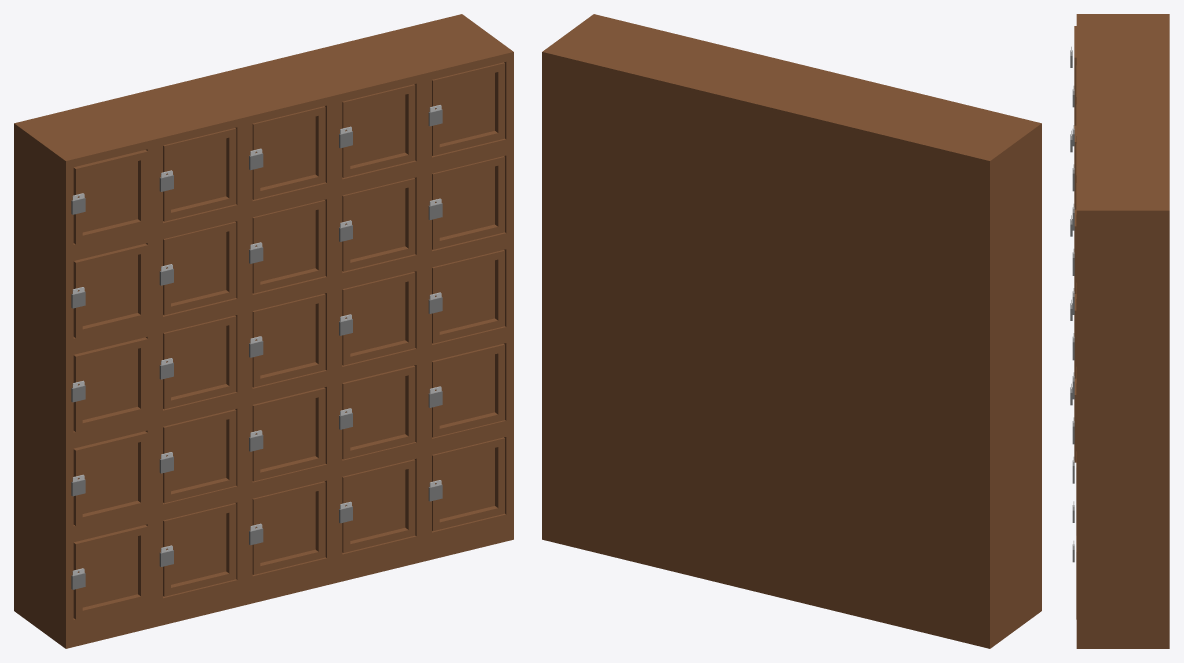
Rendered from Locker.glb.
3 views of the same model, side by side, from view 1: azimuth 30°, elevation 25°; view 2: azimuth 150°, elevation 25°; view 3: azimuth 270°, elevation 25° (orthographic). The views are drawn at different scales.
Visible parts, largest first — view 1: Cube, Cube.025, Cube.020, Cube.030, Cube.011, Cube.015, Cube.021, Cube.016, Cube.022, Cube.023, Cube.002, Cube.026 (+14 smaller); view 2: Cube; view 3: Cube, Cube.011, Cube.015, Cube.030, Cube.025, Cube.020.
Boxes of the visible parts, x1=… form: Cube: x1=14, y1=14, x2=513, y2=648; Cube.025: x1=71, y1=431, x2=147, y2=525; Cube.020: x1=71, y1=337, x2=147, y2=431; Cube.030: x1=71, y1=525, x2=147, y2=619; Cube.011: x1=71, y1=150, x2=147, y2=244; Cube.015: x1=71, y1=243, x2=147, y2=337; Cube.021: x1=159, y1=409, x2=236, y2=503; Cube.016: x1=159, y1=315, x2=236, y2=409; Cube.022: x1=249, y1=387, x2=325, y2=481; Cube.023: x1=339, y1=365, x2=415, y2=459; Cube.002: x1=159, y1=128, x2=236, y2=221; Cube.026: x1=159, y1=503, x2=236, y2=596; Cube: x1=542, y1=14, x2=1041, y2=648; Cube: x1=1076, y1=14, x2=1169, y2=648; Cube.011: x1=1070, y1=26, x2=1076, y2=125; Cube.015: x1=1070, y1=125, x2=1076, y2=209; Cube.030: x1=1070, y1=378, x2=1076, y2=462; Cube.025: x1=1070, y1=294, x2=1076, y2=378; Cube.020: x1=1070, y1=209, x2=1076, y2=293.
Size of the model in its own units: 10 by 10.4 by 2.13.
